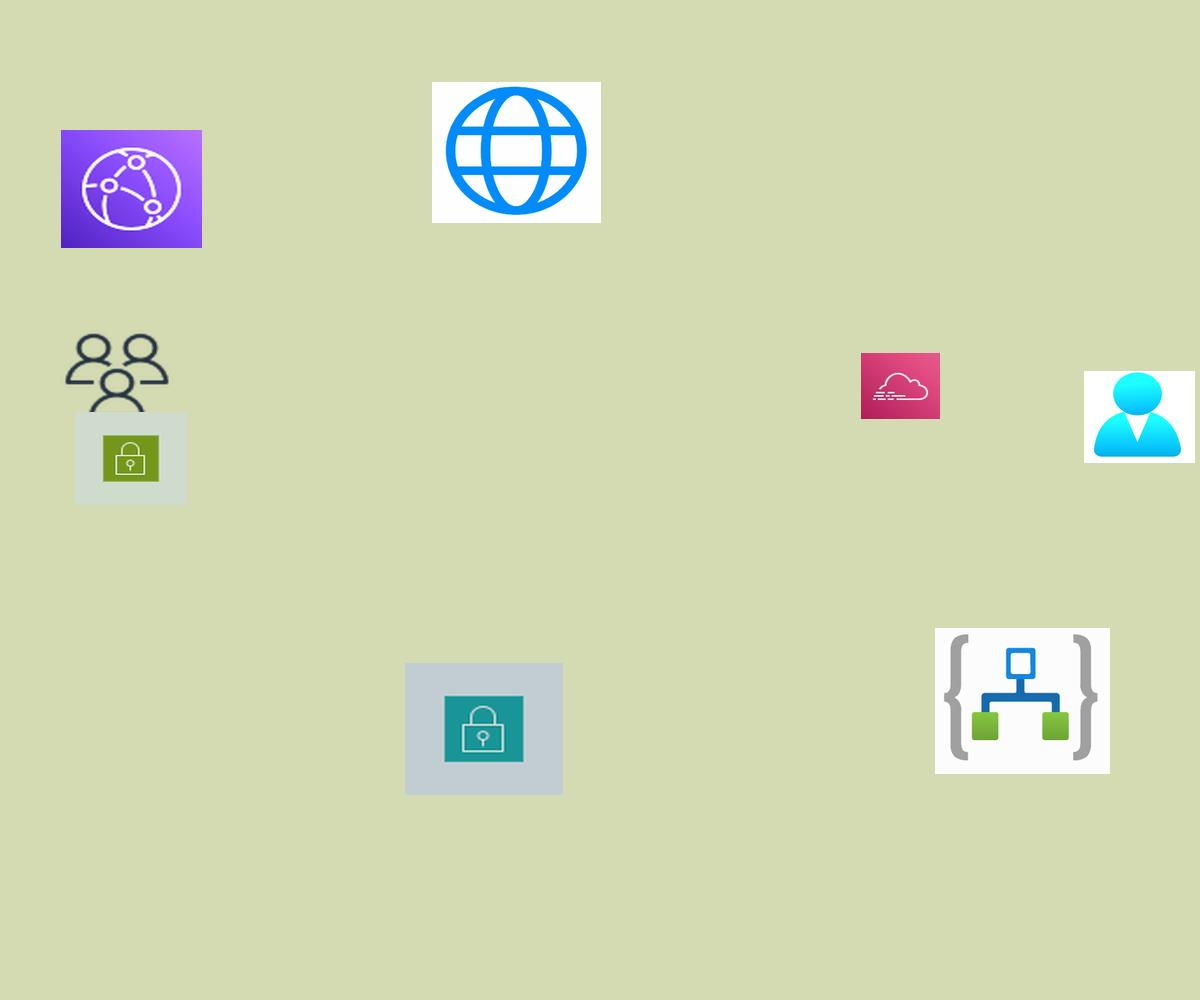AWS-CloudFront: (61, 130, 202, 248)
AWS-CloudTrail: (861, 353, 940, 419)
AWS-Private-subnet: (405, 663, 563, 795)
AWS-Public-subnet: (75, 412, 187, 505)
AWS-Res_Users: (61, 330, 173, 423)
Azure_http: (432, 82, 601, 223)
Azure_integration-204-Logic-Apps: (935, 628, 1110, 774)
Azure_users: (1084, 371, 1195, 463)
